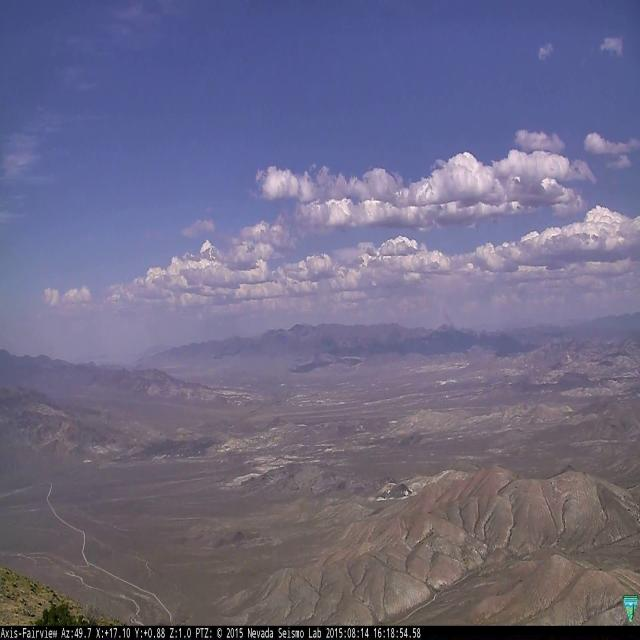smoke: (442, 308, 460, 360)
